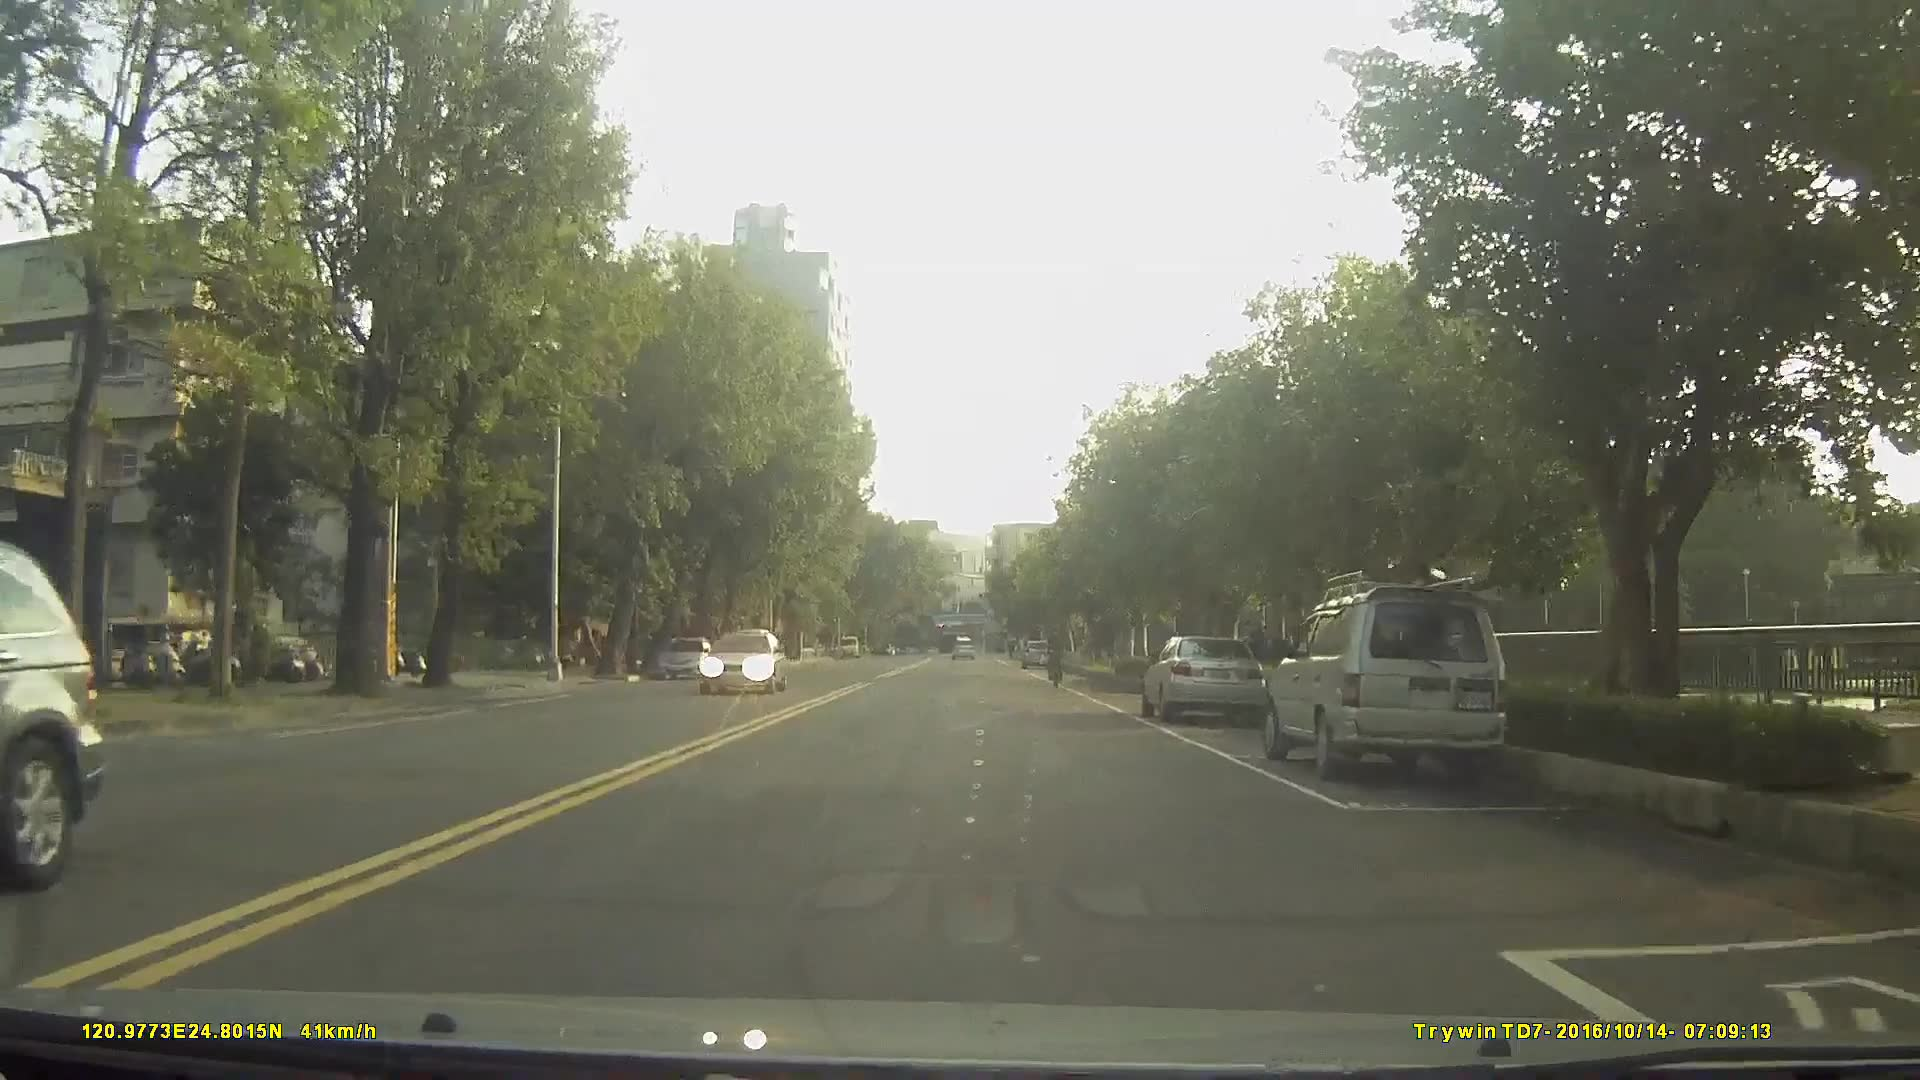rider: (1047, 624, 1069, 693)
vehicle: (1261, 577, 1508, 777), (0, 535, 103, 891), (1142, 632, 1271, 729), (694, 627, 790, 696), (654, 635, 713, 680), (725, 631, 772, 675), (1019, 636, 1052, 669), (947, 635, 975, 662)
